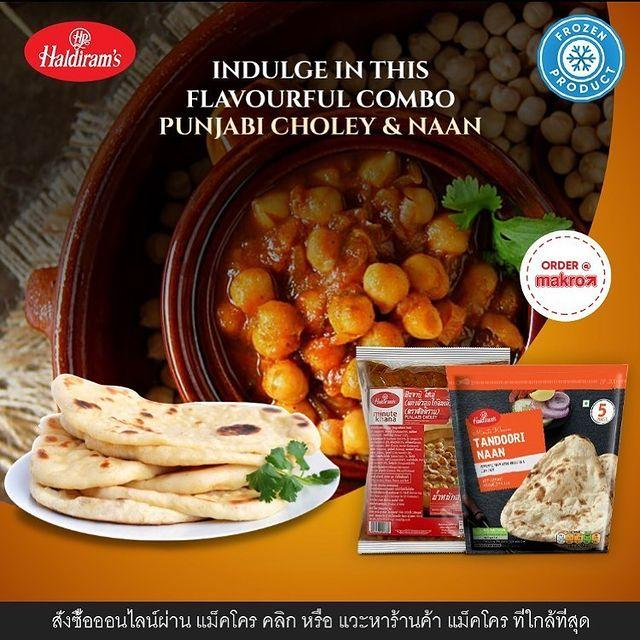Chole: (224, 154, 496, 350)
